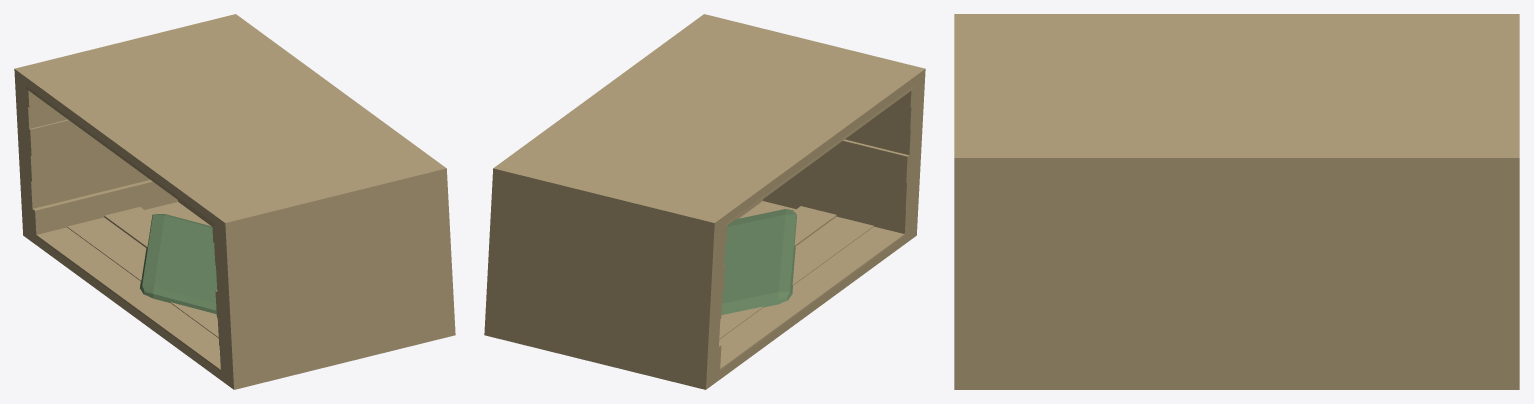
The model's file is InsideCabin.fbx.
3 views of the same model, side by side, from view 1: azimuth 30°, elevation 25°; view 2: azimuth 150°, elevation 25°; view 3: azimuth 270°, elevation 25° (orthographic). The views are drawn at different scales.
Parts seen in each view (by area): view 1: Cube.006, Cube.005; view 2: Cube.006, Cube.005; view 3: Cube.006.
Part boxes in pixels (box(x1,y1,x2,y2)): Cube.006: box(14, 14, 455, 389); Cube.005: box(140, 214, 217, 313); Cube.006: box(484, 14, 925, 389); Cube.005: box(721, 209, 796, 314); Cube.006: box(954, 14, 1519, 389).
Bounding box in the file's own units: 350 × 247 × 556.
